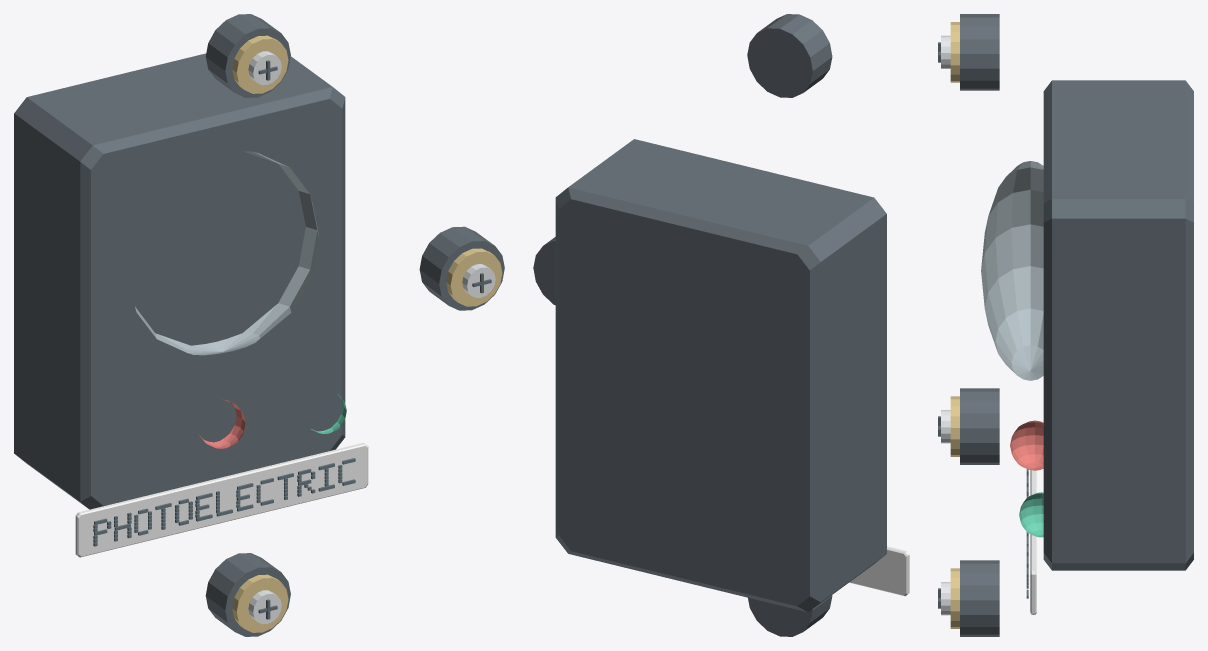
The model's file is photoelectricSensor.glb.
3 views of the same model, side by side, from view 1: azimuth 30°, elevation 25°; view 2: azimuth 150°, elevation 25°; view 3: azimuth 270°, elevation 25° (orthographic).
Visible parts, largest first — view 1: photoelectricSensor-preview; view 2: photoelectricSensor-preview; view 3: photoelectricSensor-preview.
Boxes of the visible parts, bbox=[...] form: photoelectricSensor-preview: bbox=[14, 14, 504, 636]; photoelectricSensor-preview: bbox=[533, 14, 909, 636]; photoelectricSensor-preview: bbox=[938, 14, 1193, 636].
Size of the model in its own units: 1.87 by 2.77 by 1.04.
